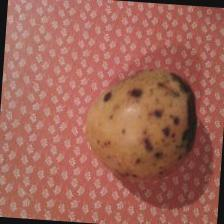Mango Overripe: (82, 63, 201, 179)
